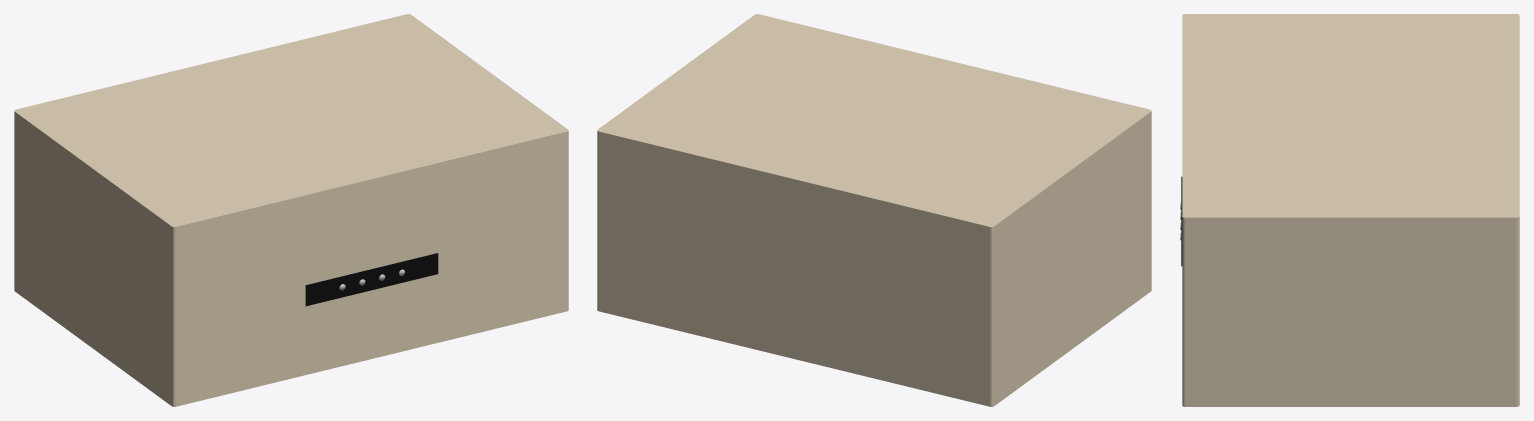
File: a_hood_cube_3.glb
3 renders of one model, left to right at view 1: azimuth 30°, elevation 25°; view 2: azimuth 150°, elevation 25°; view 3: azimuth 270°, elevation 25°, orthographic. The views are drawn at different scales.
Visible parts, largest first — view 1: o, o.021; view 2: o; view 3: o.
Part boxes in pixels (bbox=[...]): o: bbox=[14, 14, 568, 406]; o.021: bbox=[305, 253, 438, 306]; o: bbox=[597, 14, 1151, 406]; o: bbox=[1182, 14, 1519, 406].
Bounding box in the file's own units: 0.6 × 0.2622 × 0.4222.
